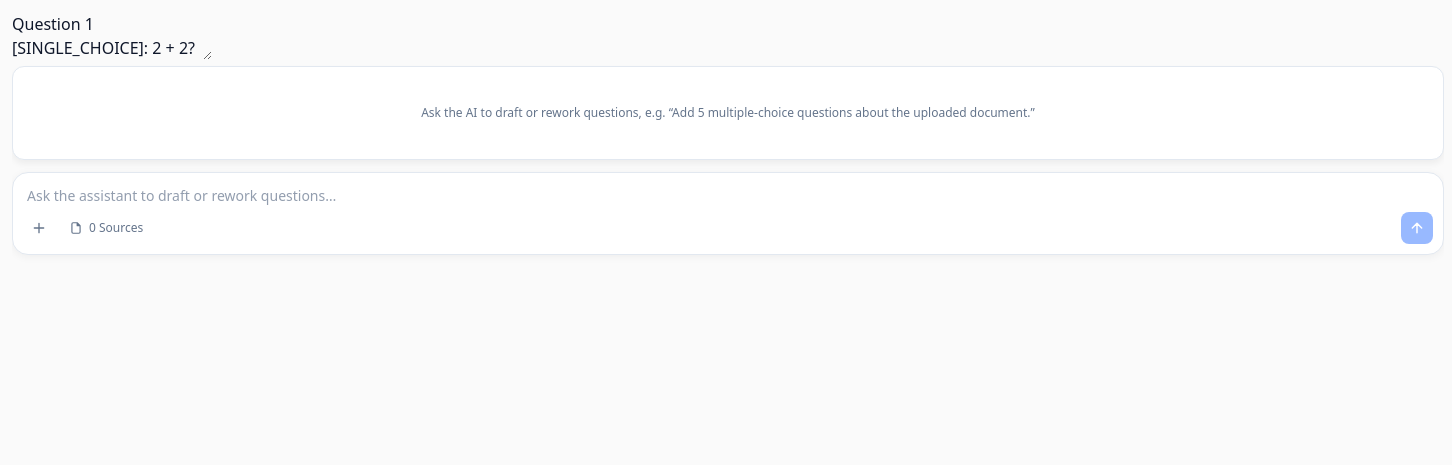
Test: Gate review round 3 — P1-1 silent acceptance on next send › P1-1: import gate stays closed while a change set is pending after a failed follow-up attempt
Type "add a question" into the text box named "Message the AI assistant" at (728, 190), box [13, 172, 1443, 208]
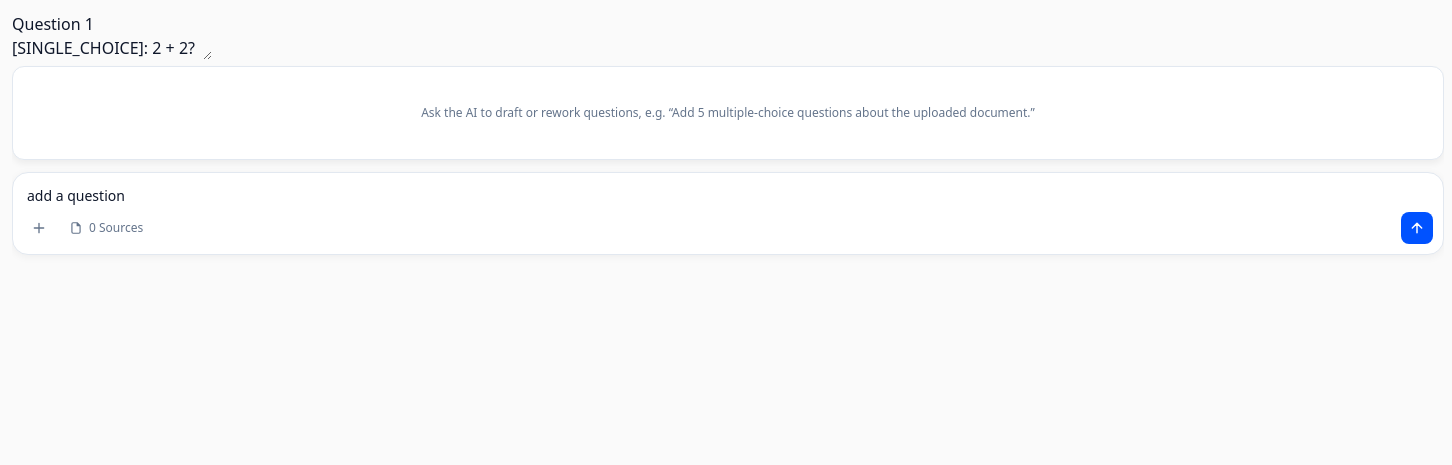
Click the button named "Send message" at (1417, 228), box [1401, 212, 1433, 244]
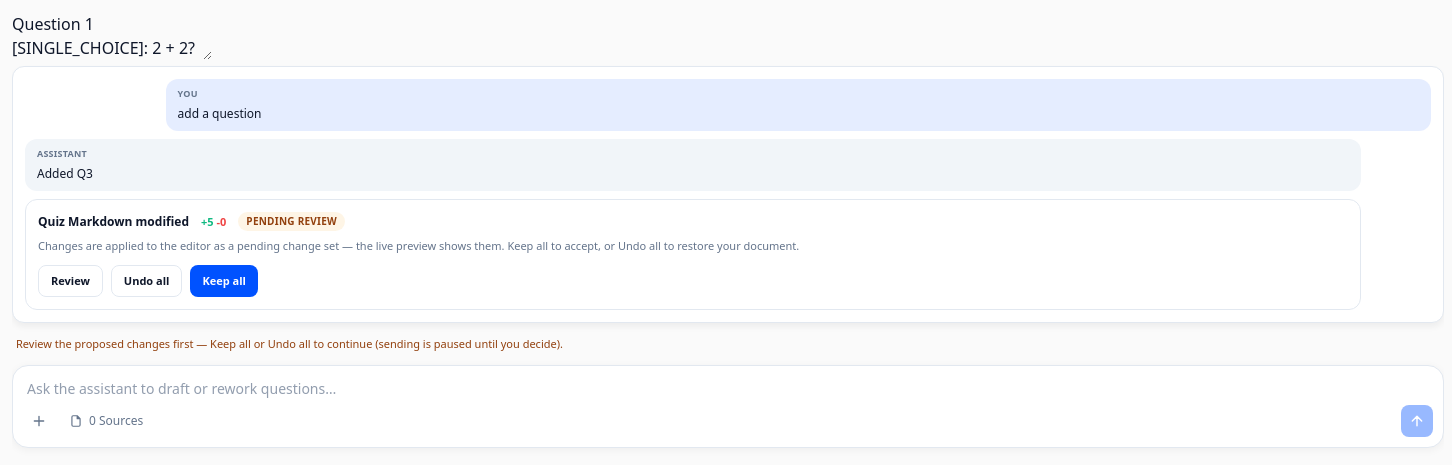
Expected: the button named "Send message" is disabled, [1401, 405, 1433, 437]
Expected: the text "Pending review" is shown, [238, 212, 345, 231]
